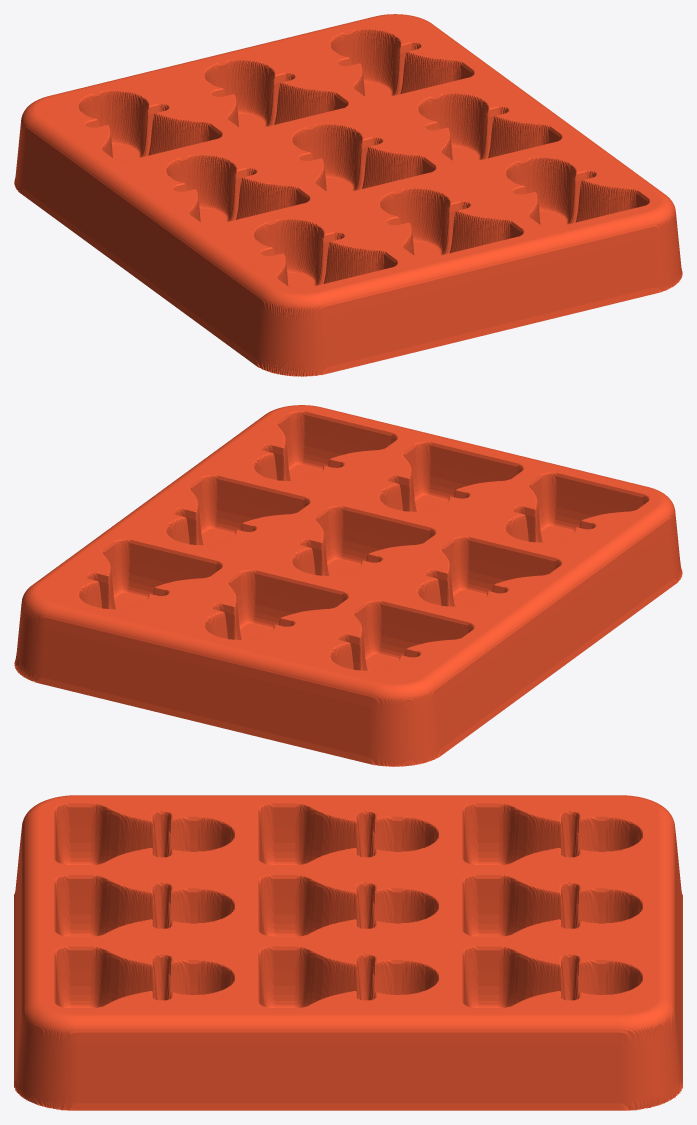
The model's file is mold.glb.
3 views of the same model, one above another, from view 1: azimuth 30°, elevation 25°; view 2: azimuth 150°, elevation 25°; view 3: azimuth 270°, elevation 25° (orthographic). The views are drawn at different scales.
Visible parts, largest first — view 1: geometry_0; view 2: geometry_0; view 3: geometry_0.
Part boxes in pixels (<box>): geometry_0: <box>14,14,682,376</box>; geometry_0: <box>14,405,682,766</box>; geometry_0: <box>14,795,682,1110</box>.
Bounding box in the file's own units: 0.0814 × 0.0136 × 0.0964.
